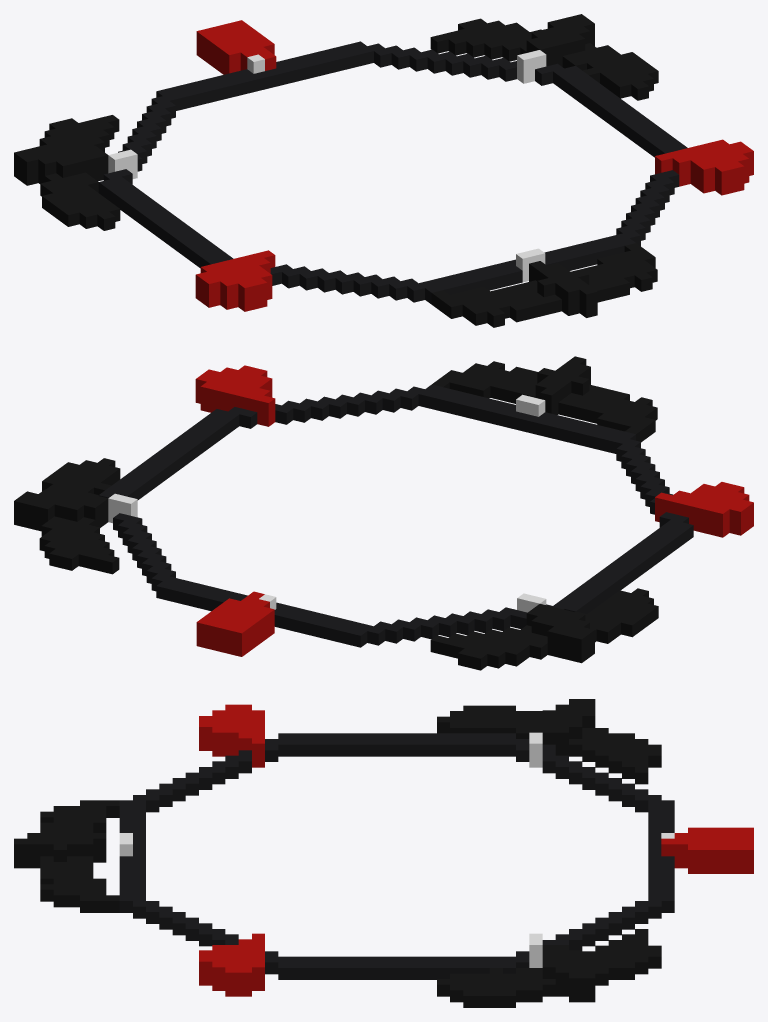
The model's file is bat_anklet.glb.
The picture shows the model from 3 angles, top to bottom: view 1: azimuth 30°, elevation 25°; view 2: azimuth 150°, elevation 25°; view 3: azimuth 270°, elevation 25°; orthographic projection.
Parts seen in each view (by area): view 1: bat_anklet:compound; view 2: bat_anklet:compound; view 3: bat_anklet:compound.
Part boxes in pixels (box(x1,y1,x2,y2)): bat_anklet:compound: box(14, 14, 753, 327); bat_anklet:compound: box(14, 356, 753, 670); bat_anklet:compound: box(14, 699, 753, 1007).
Bounding box in the file's own units: 0.104 × 0.004 × 0.112.
